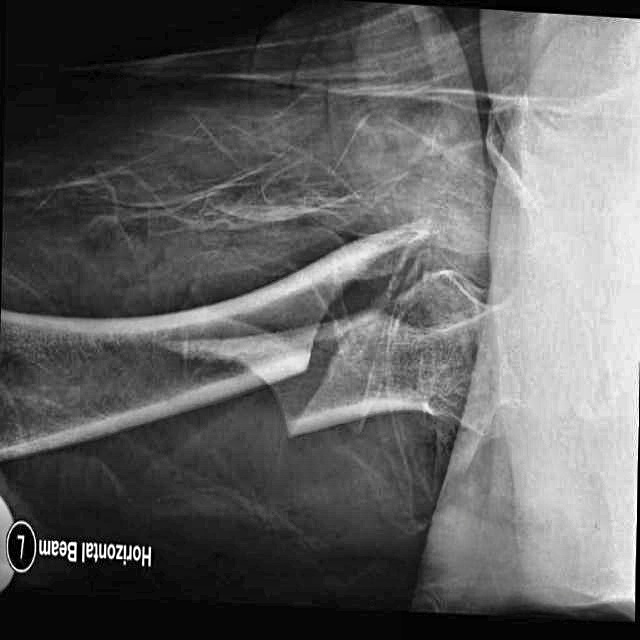Spiral: (189, 211, 438, 447)
